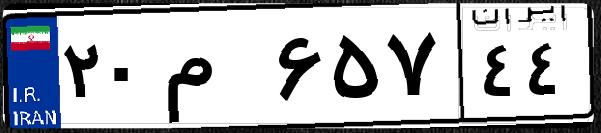0: (110, 28, 158, 98)
2: (57, 26, 110, 100)
4: (475, 38, 525, 113), (525, 38, 570, 115)
5: (330, 28, 385, 110)
6: (270, 28, 330, 110)
7: (385, 28, 445, 110)
م: (158, 20, 270, 120)
